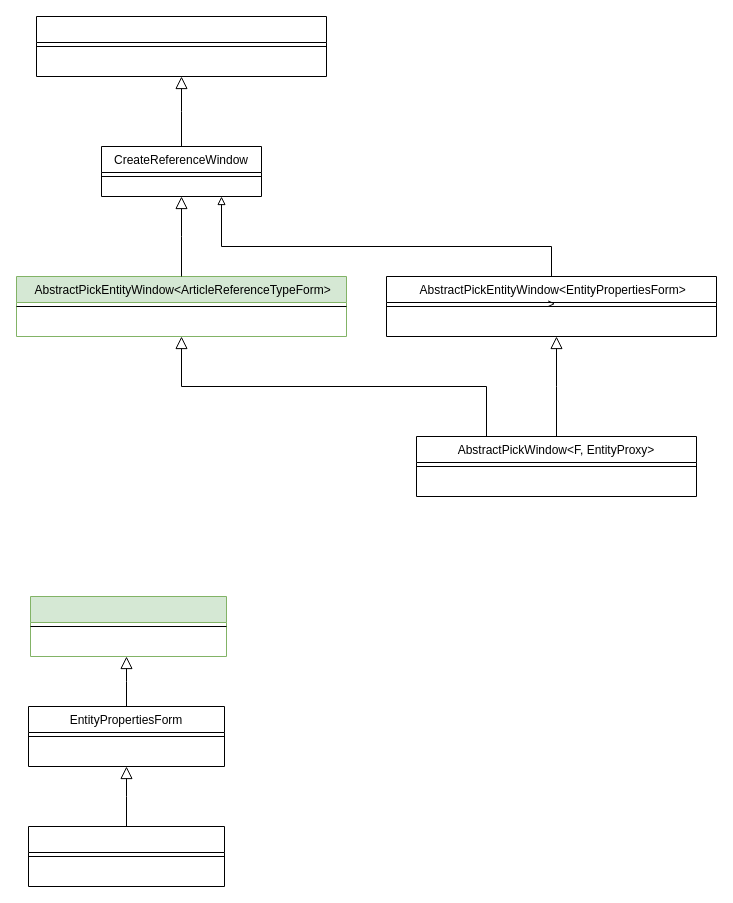
The diagram is 733 pixels wide and 903 high, and some of its shapes have lost their labels. The centre of each missing label's shape, as x and y in pixels:
ApplCreateIncompatibilityReferenceWindow: the point at 181,46
ArticleReferenceTypeForm: the point at 128,626
Form: the point at 126,856
